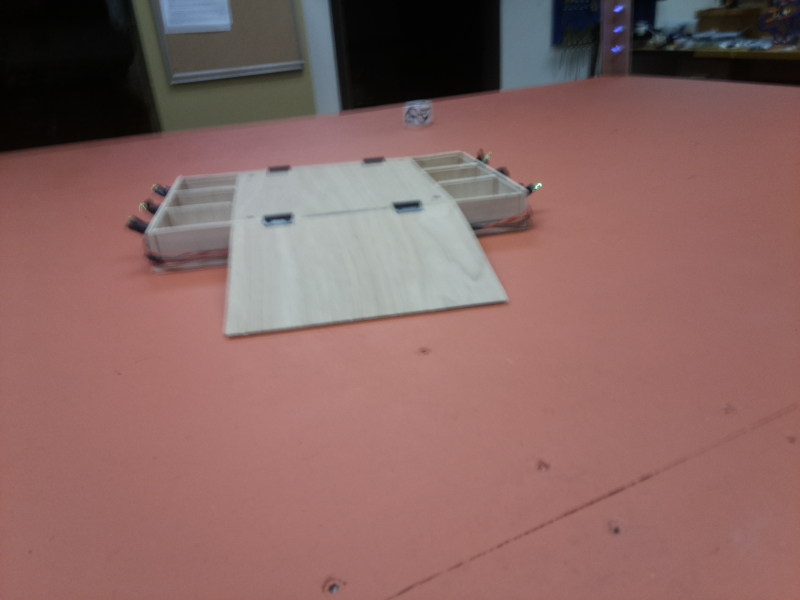blockD: (400, 99, 437, 128)
side: (128, 168, 185, 256), (462, 148, 542, 209)
slope: (218, 201, 511, 346), (240, 155, 418, 170)
